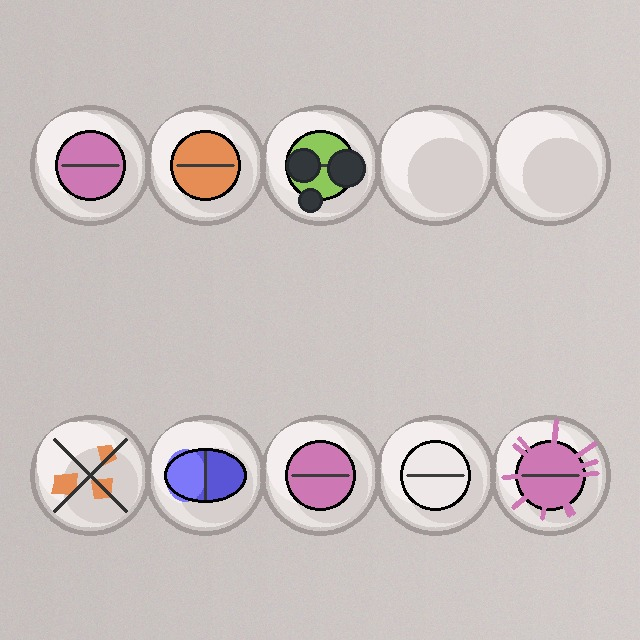broken: (28, 413, 152, 537)
flash: (488, 413, 612, 537)
missing: (373, 103, 497, 227), (488, 103, 612, 227)
stain: (258, 103, 382, 227)
